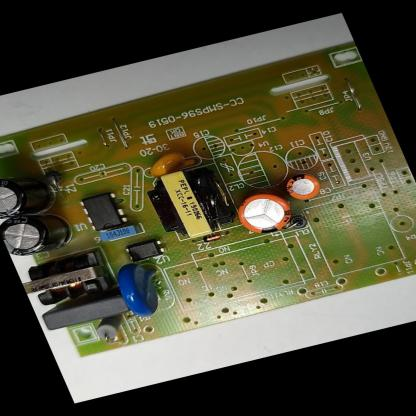Cap1: (228, 184, 302, 240)
Cap2: (282, 169, 328, 205)
Cap3: (0, 204, 81, 262)
Cap4: (0, 166, 62, 222)
MOSFET: (76, 190, 131, 233)
Mov: (109, 256, 176, 322)
Resistor: (89, 313, 134, 344)
Transformer: (140, 163, 236, 246), (16, 249, 117, 311)
